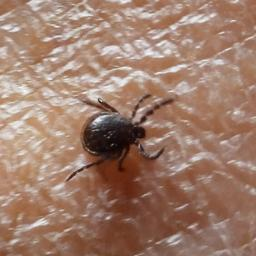Ixodes scapularis: (65, 93, 177, 183)
